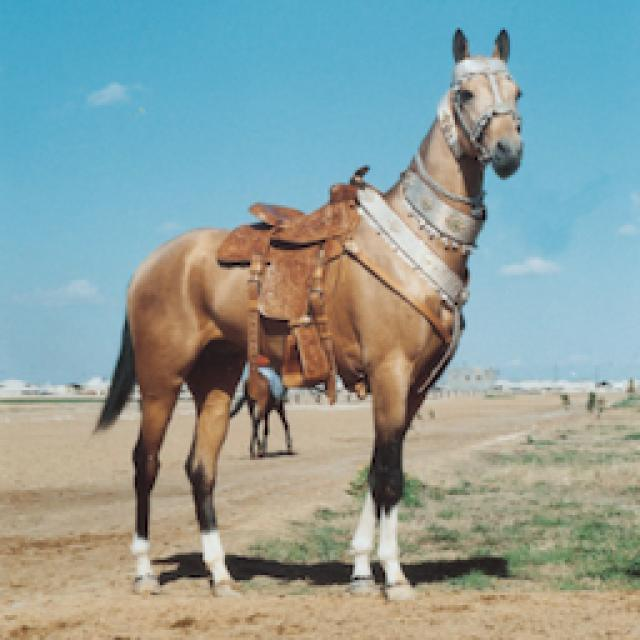Horse: (88, 22, 530, 606)
